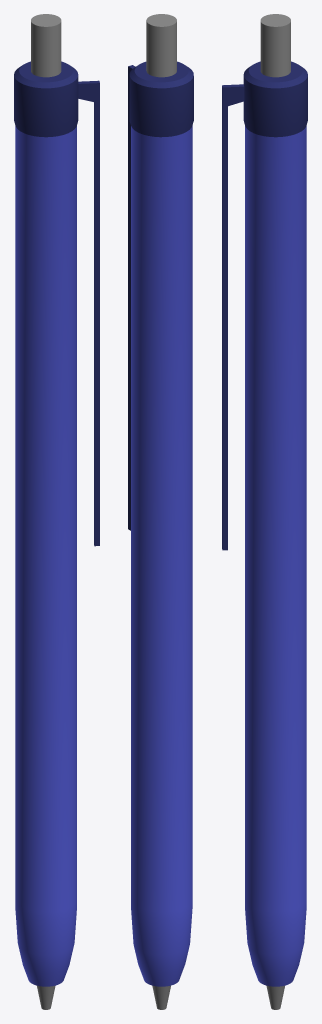
Rendered from pencil-Throw.fbx.
The picture shows the model from 3 angles, left to right: view 1: azimuth 90°, elevation 25°; view 2: azimuth 210°, elevation 25°; view 3: azimuth 270°, elevation 25°; orthographic projection.
Parts seen in each view (by area): view 1: Cylinder.004; view 2: Cylinder.004; view 3: Cylinder.004.
Part boxes in pixels (x1,y1,x2,y2): Cylinder.004: (14,14,99,1009); Cylinder.004: (128,14,193,1009); Cylinder.004: (222,14,307,1009).
Size of the model in its own units: 40.41 by 684 by 54.
